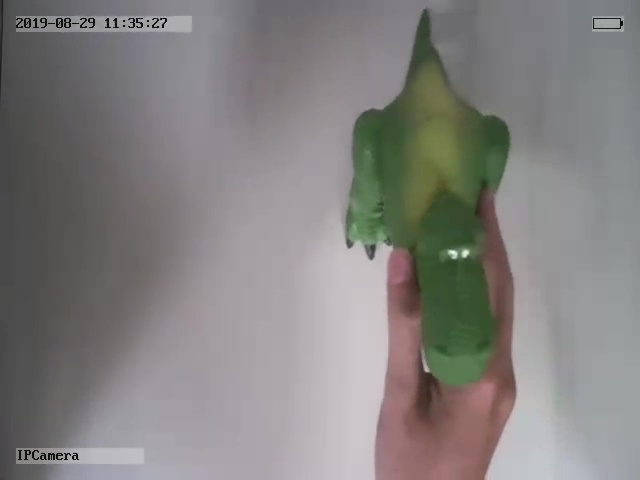rex: (343, 8, 512, 385)
